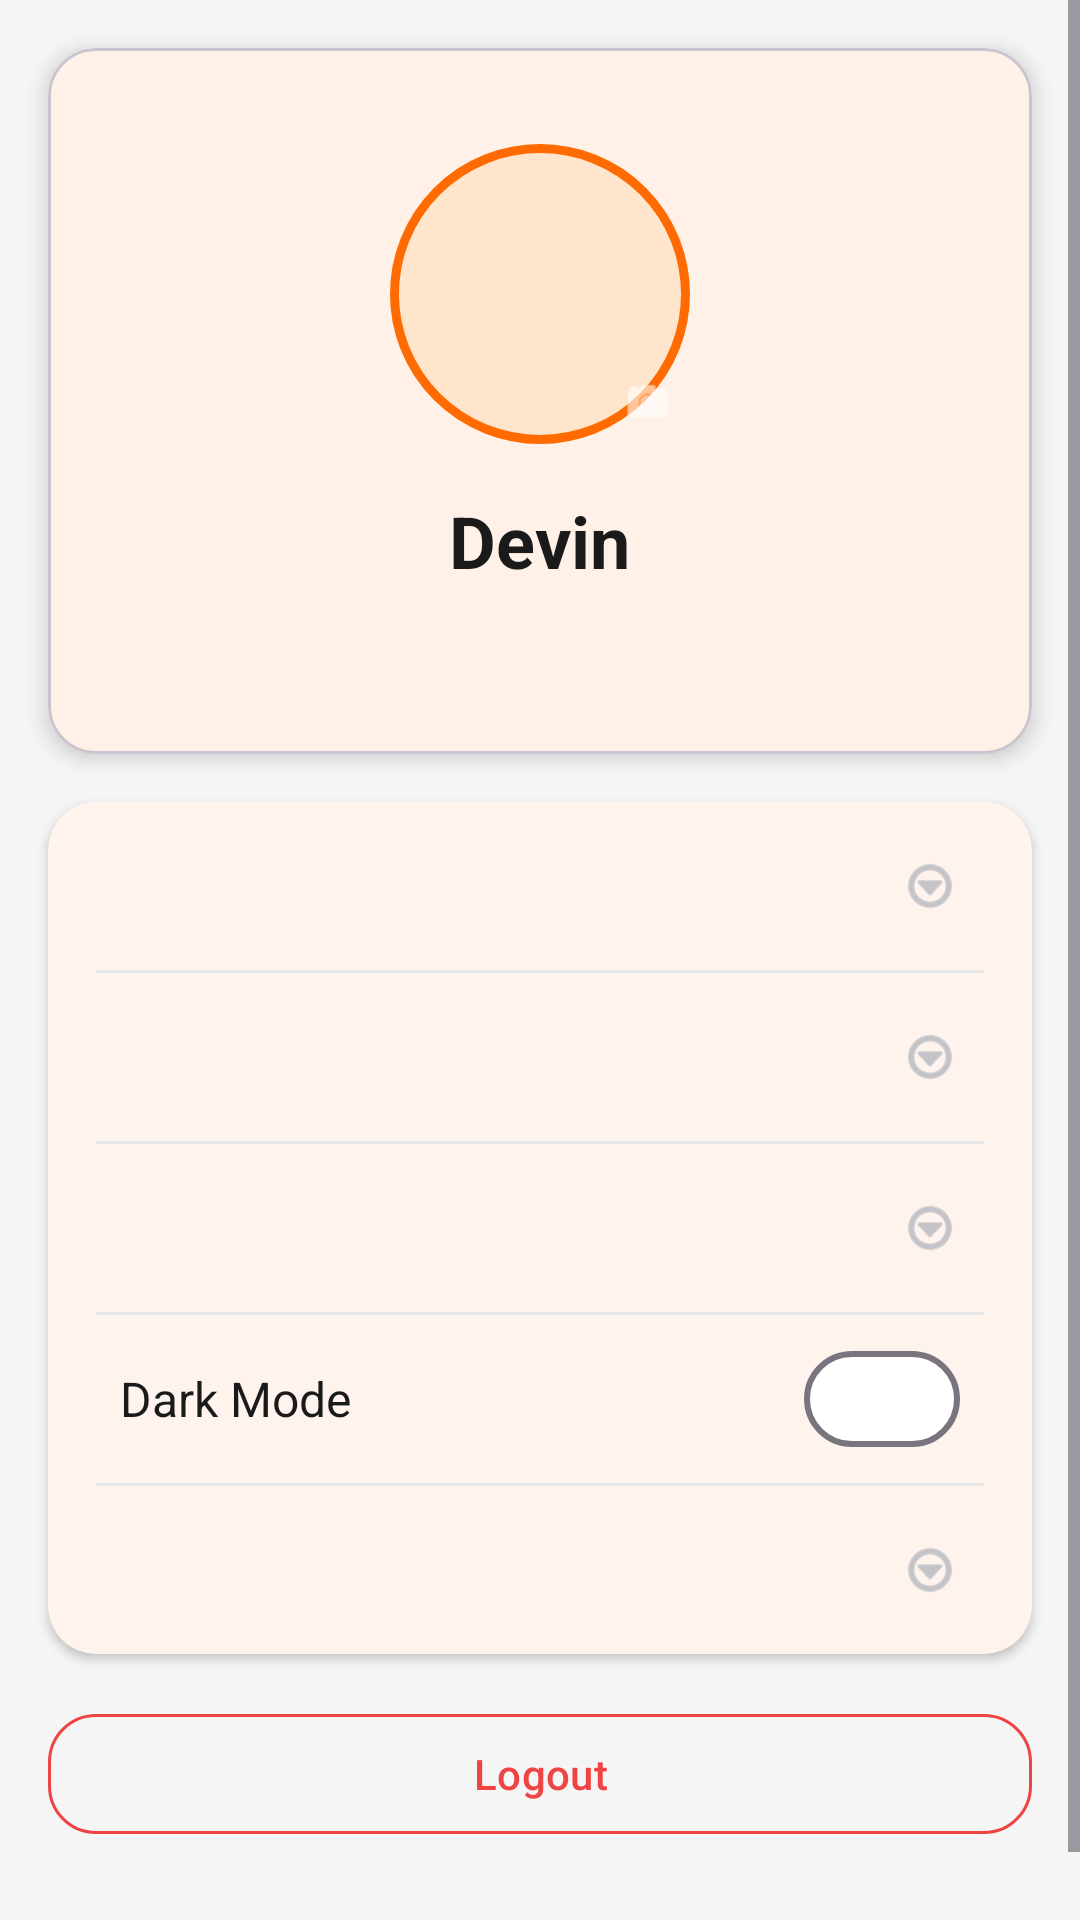

Named icons in this screenshot (1080 × 1920) and their bounding boxes, (x1, y1, x2, y2):
more: (908, 864, 952, 908), (908, 1035, 952, 1079), (908, 1206, 952, 1250), (908, 1548, 952, 1592)
